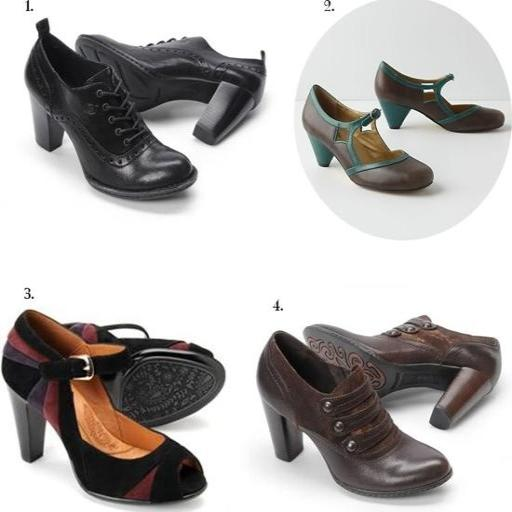heels: (2, 311, 207, 502), (257, 332, 451, 497), (25, 19, 197, 199), (304, 316, 501, 429), (76, 35, 266, 144), (67, 323, 225, 426), (302, 85, 433, 191), (375, 62, 505, 132)
